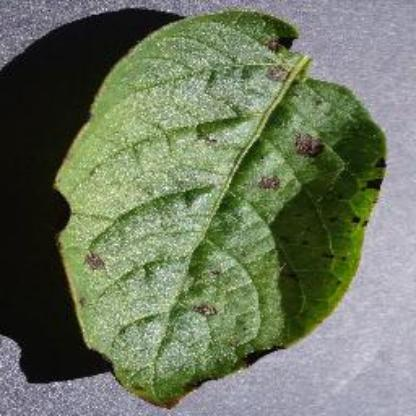Early-Blight: (49, 8, 389, 410)
